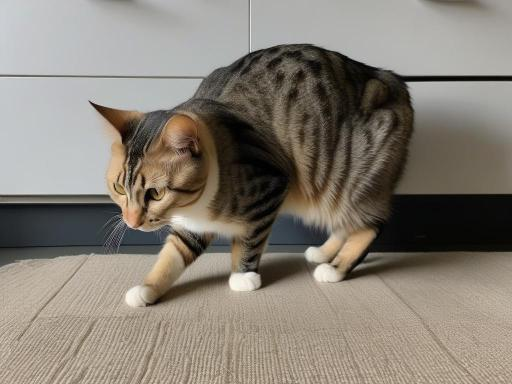cat_standing: (90, 44, 414, 306)
